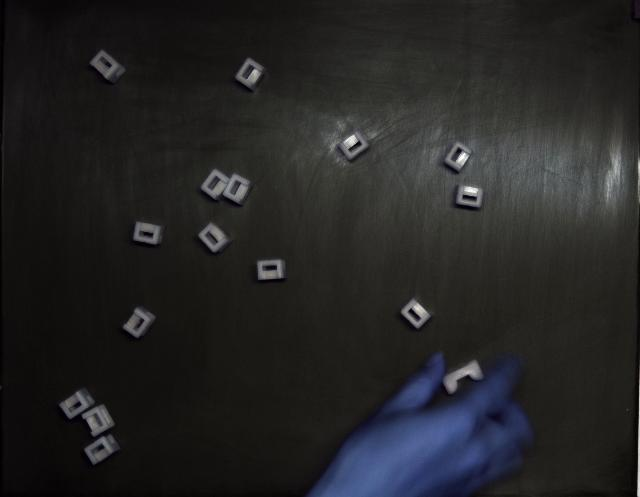fourth_side: (90, 50, 125, 84), (81, 405, 115, 438), (59, 389, 95, 420), (84, 435, 120, 465), (122, 308, 156, 339), (235, 58, 266, 91), (199, 222, 232, 253), (222, 174, 254, 205), (201, 169, 232, 201), (401, 299, 431, 329), (339, 131, 369, 160), (444, 141, 472, 172), (132, 221, 165, 245), (456, 185, 484, 209), (258, 260, 286, 281)
third_side: (442, 360, 484, 395)
